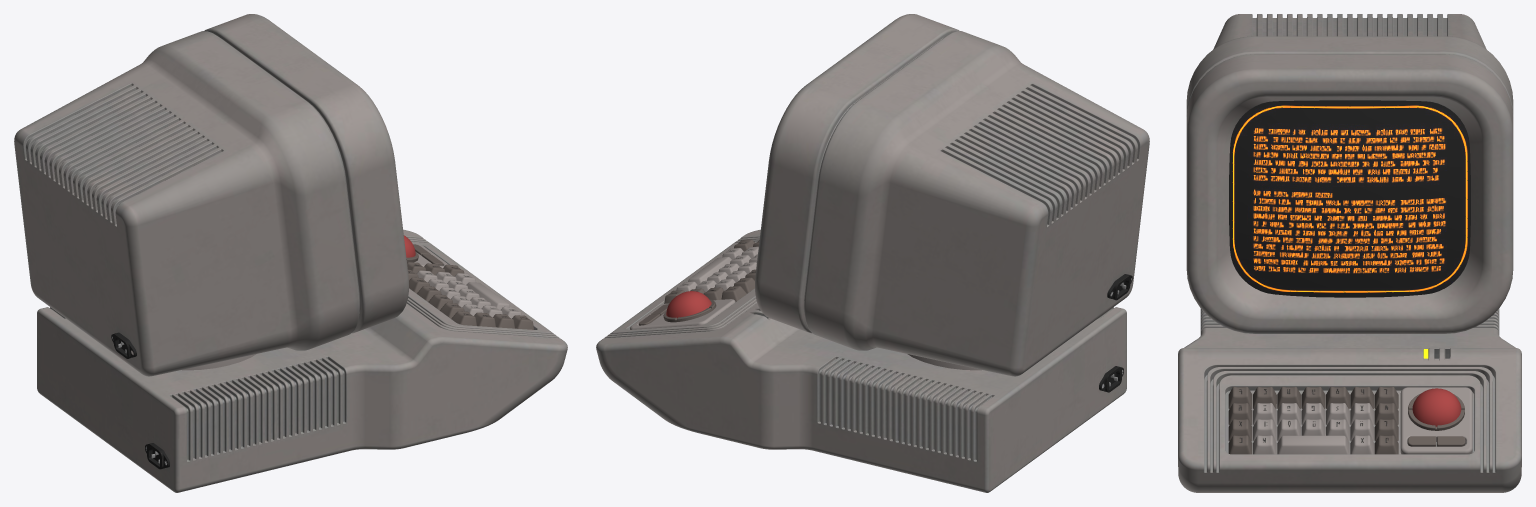
The model's file is retro-computer.glb.
3 renders of one model, left to right at view 1: azimuth 30°, elevation 25°; view 2: azimuth 150°, elevation 25°; view 3: azimuth 270°, elevation 25°, orthographic. The views are drawn at different scales.
Parts seen in each view (by area): view 1: Part2, Part1; view 2: Part2, Part1; view 3: Part2, Part1.
Boxes of the visible parts, x1,y1,x2,y2 form: Part2: [14, 14, 567, 492]; Part1: [111, 235, 533, 469]; Part2: [596, 14, 1149, 492]; Part1: [630, 239, 1132, 392]; Part2: [1178, 14, 1521, 492]; Part1: [1228, 100, 1472, 454].
Size of the model in its own units: 200 by 155 by 132.
Materials: 2 (2 with a texture image).
